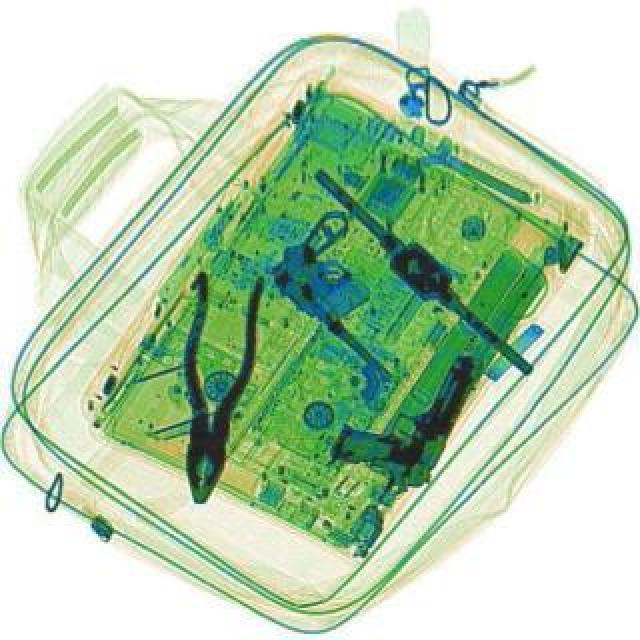gun: (256, 204, 456, 390), (322, 320, 486, 500)
wrench: (158, 268, 268, 508)
